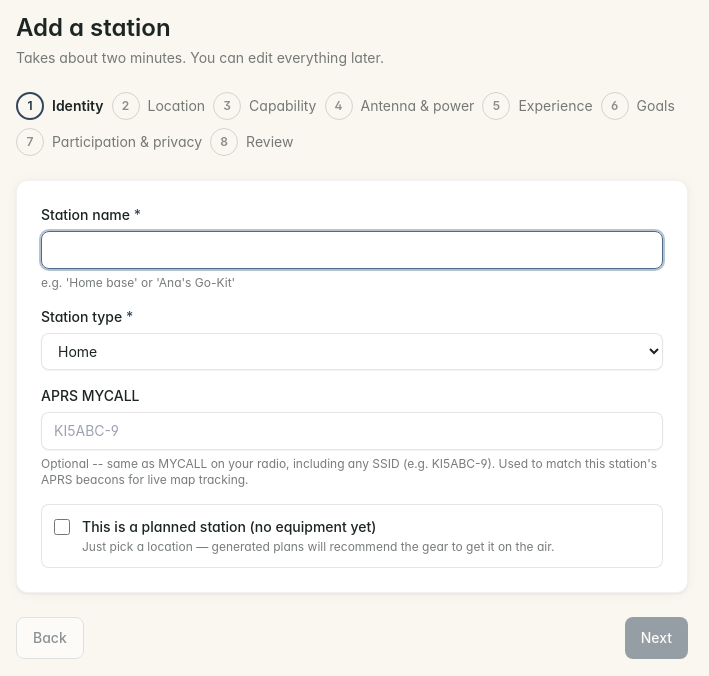
Test case: StationWizardPage › shows no location capture UI when precision is hidden
This screenshot has width=709, height=676.
Type "Home base" into the field labelled "Station name *".
click(352, 250); type("Home base")  # box [41,231,663,269]
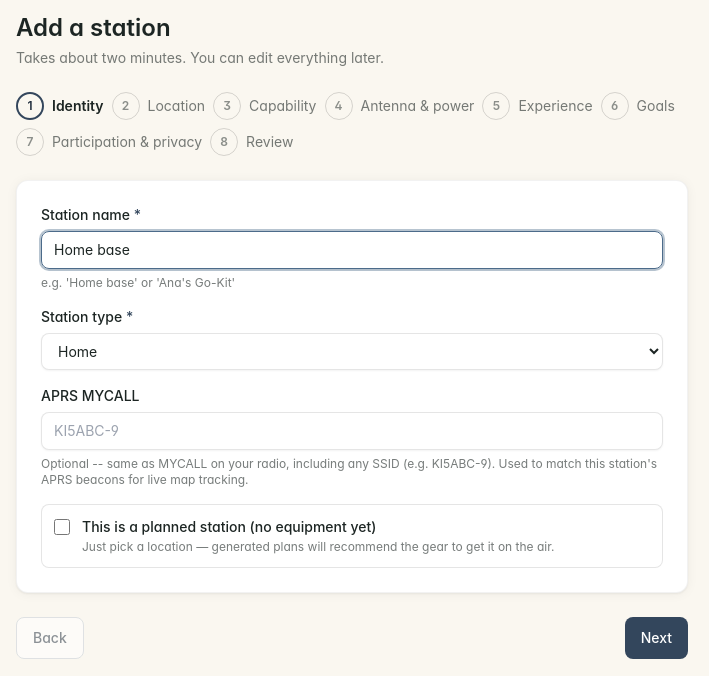
Click the button "Next".
click(656, 638)  # box [625,617,688,659]
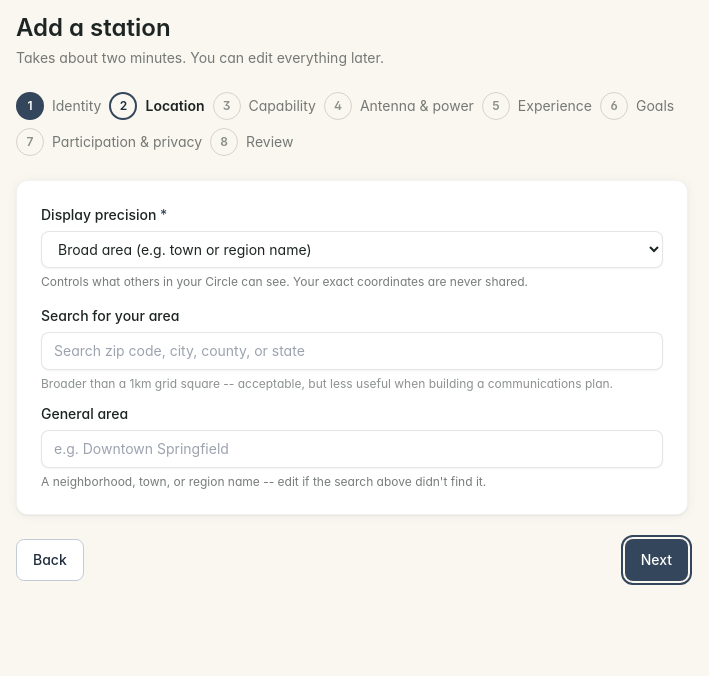
Select "Hidden - do not display my location" in the dropdown labelled "Display precision *" at (352, 250), box [41,231,663,268]
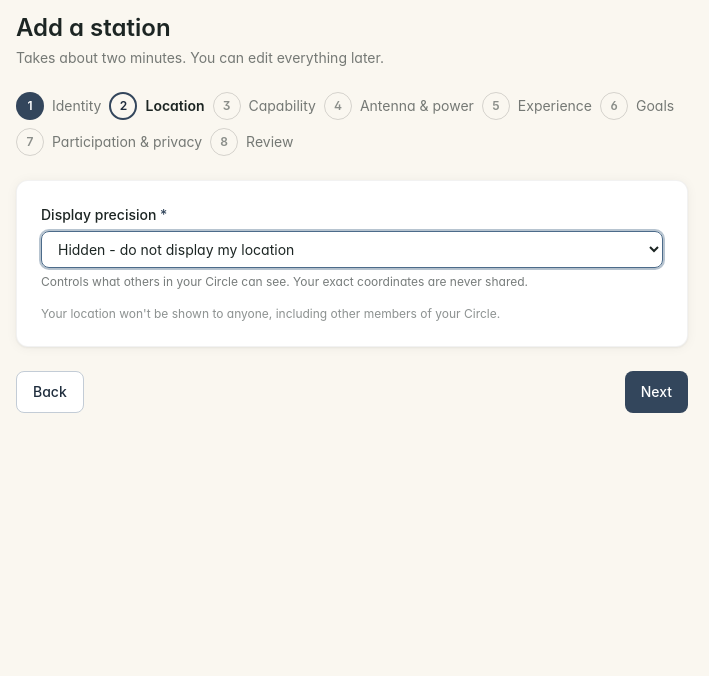
Expected: the label labelled "General area" is gone
Expected: the text "1km grid square" is gone
Expected: the text "location won't be shown to anyone" is shown, [41,306,500,321]
